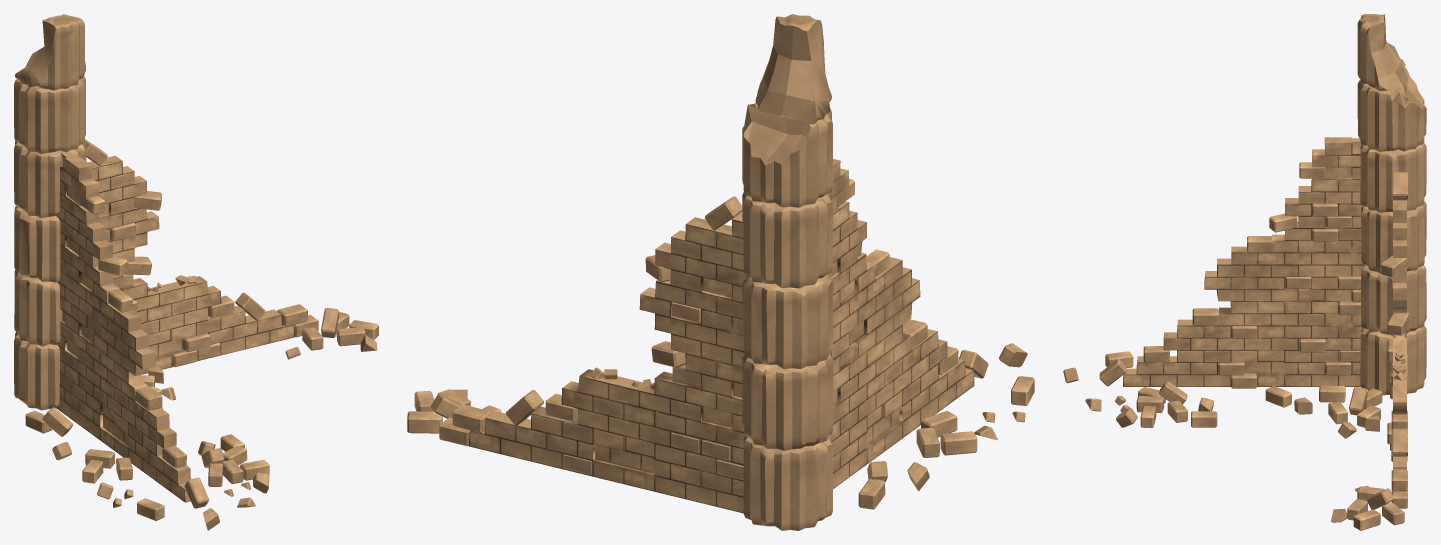
The model's file is sf_pack_tower.glb.
3 views of the same model, side by side, from view 1: azimuth 30°, elevation 25°; view 2: azimuth 150°, elevation 25°; view 3: azimuth 270°, elevation 25° (orthographic). The views are drawn at different scales.
Parts seen in each view (by area): view 1: sf_pack_tower; view 2: sf_pack_tower; view 3: sf_pack_tower.
Boxes of the visible parts, x1,y1,x2,y2 form: sf_pack_tower: [14, 14, 378, 530]; sf_pack_tower: [407, 14, 1034, 530]; sf_pack_tower: [1063, 14, 1426, 530].
Size of the model in its own units: 6.12 by 6.16 by 5.41.
2 materials, 2 textured.
